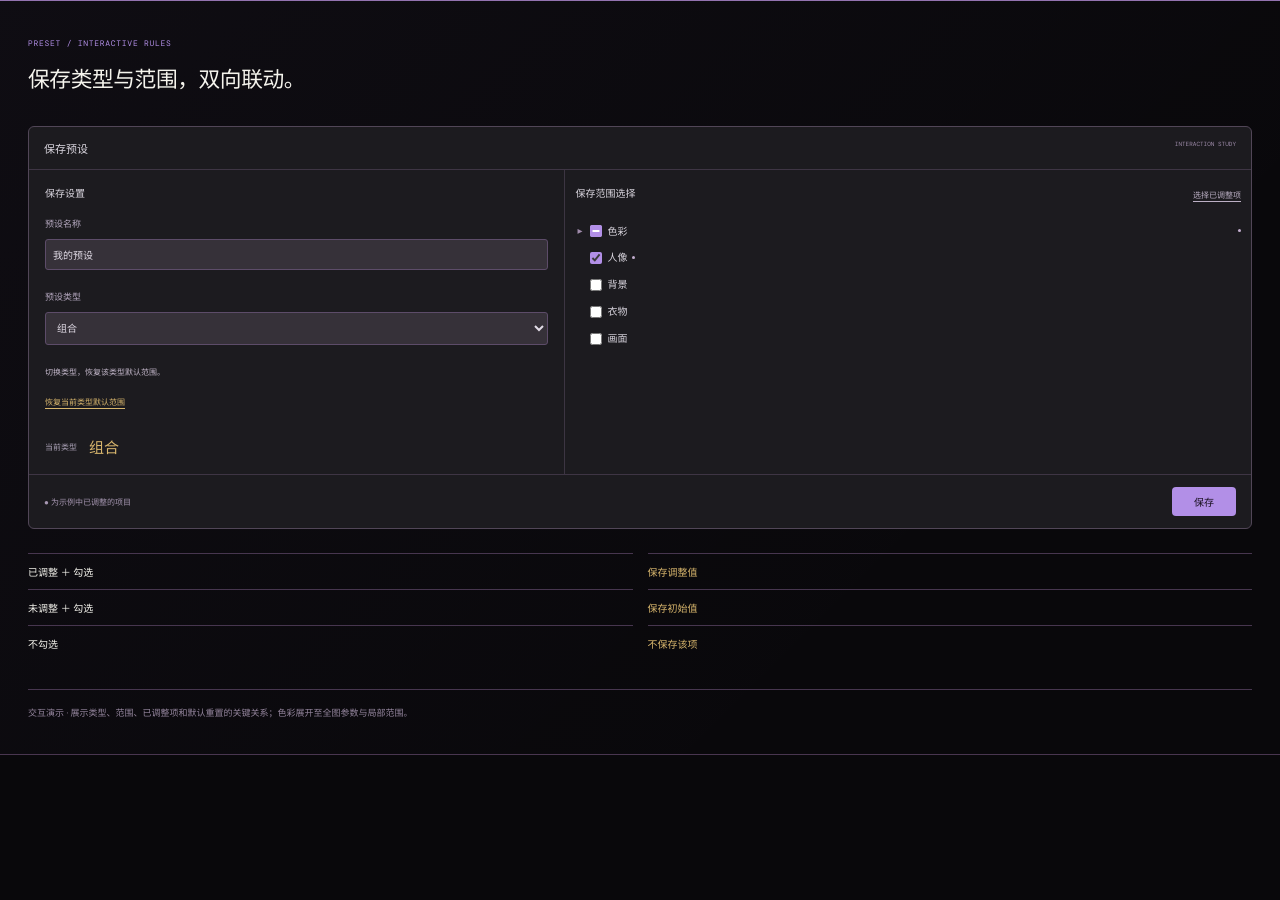
it: preset scope rules from the PRD › restores defaults after adjusted items, and disables saving an empty selection
The image size is (1280, 900).
Earlier steps of the test are not shown.
Step 1. Click the button "恢复当前类型默认范围" → (85, 401), box [45,388,125,414]
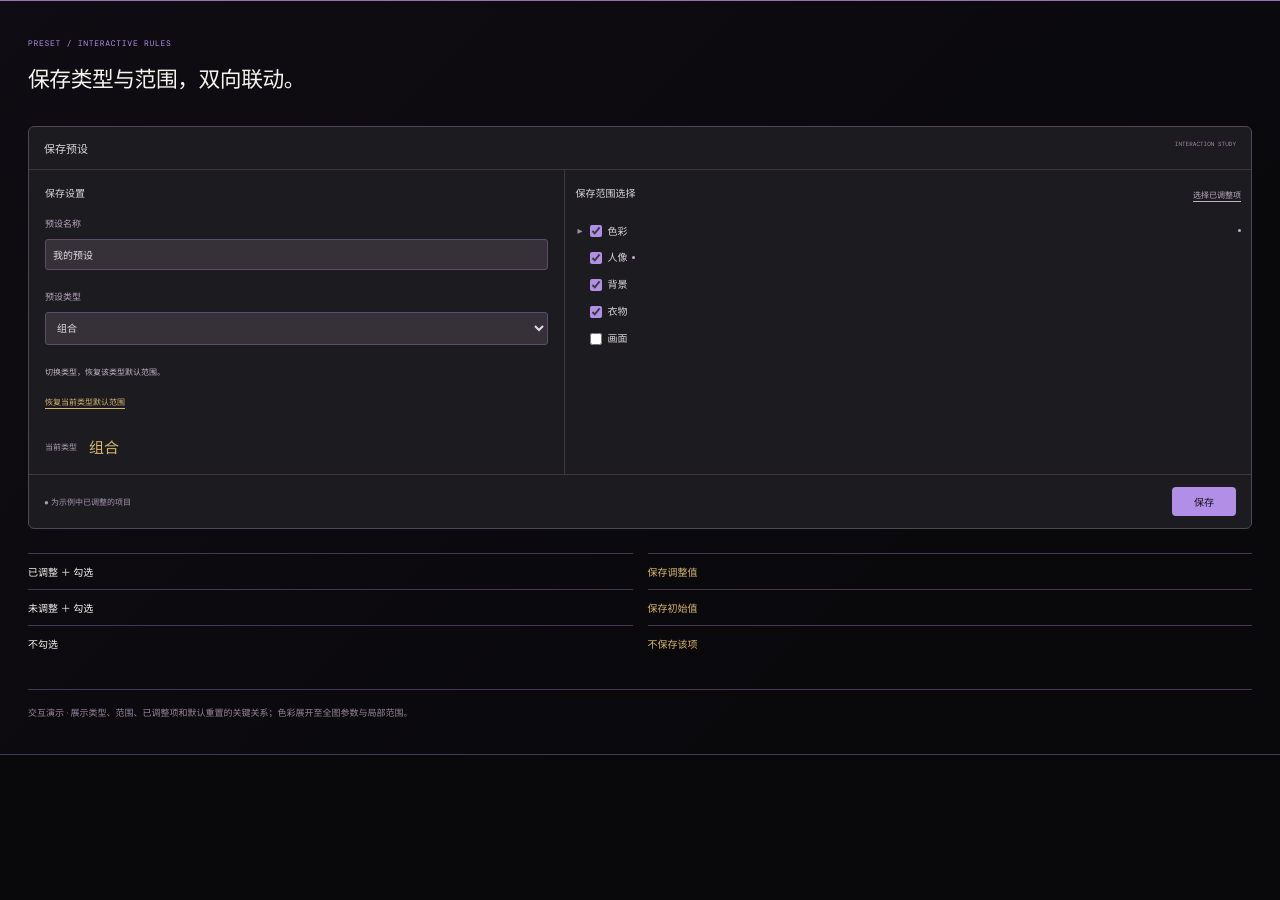
Now the checkbox named "保存色彩范围" is checked
Now the checkbox named "保存背景范围" is checked, box [590,279,602,291]
Step 2. Click the checkbox named "保存色彩范围" → (596, 231), box [590,225,602,237]
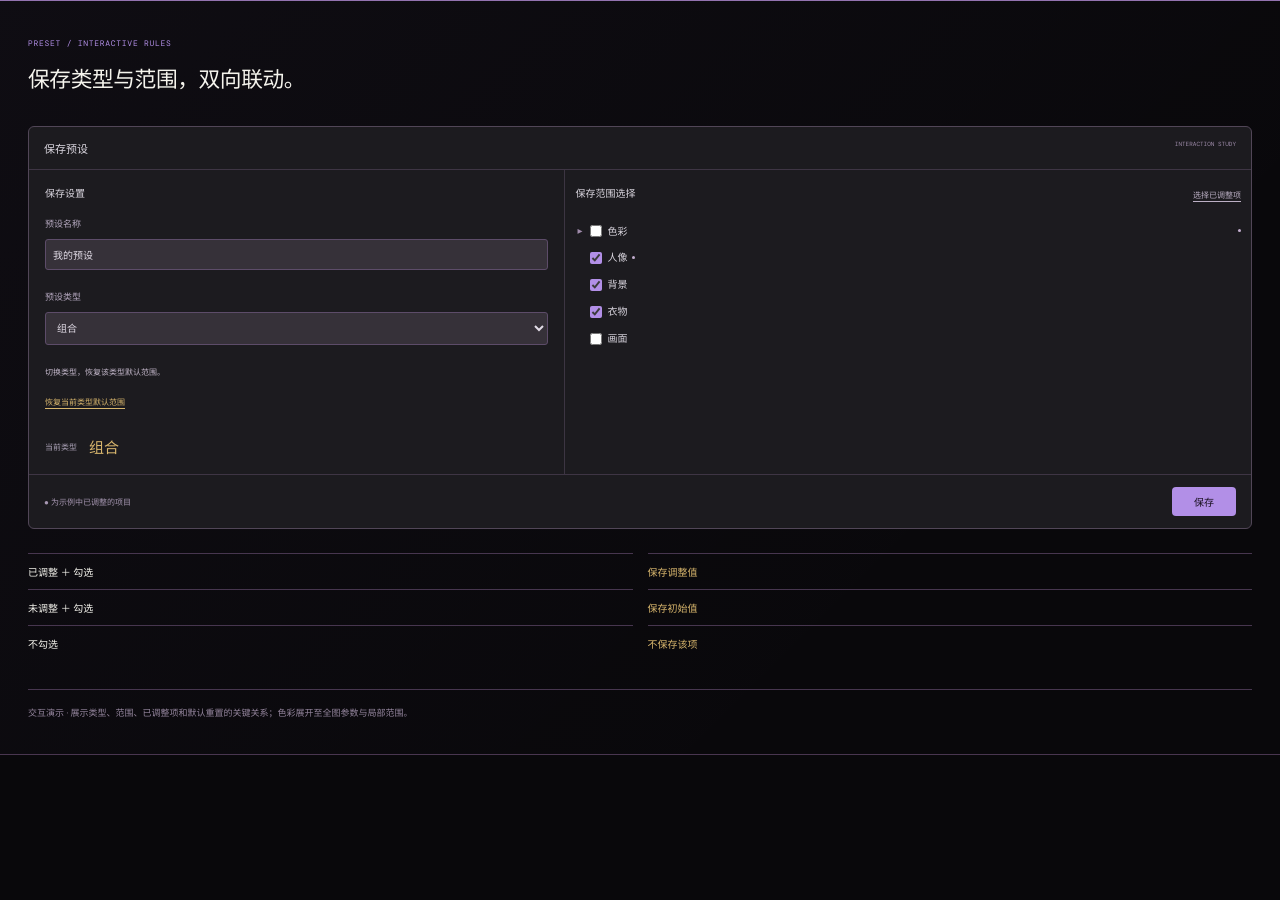
Step 3. Click the checkbox named "保存人像范围" → (596, 258), box [590,252,602,264]
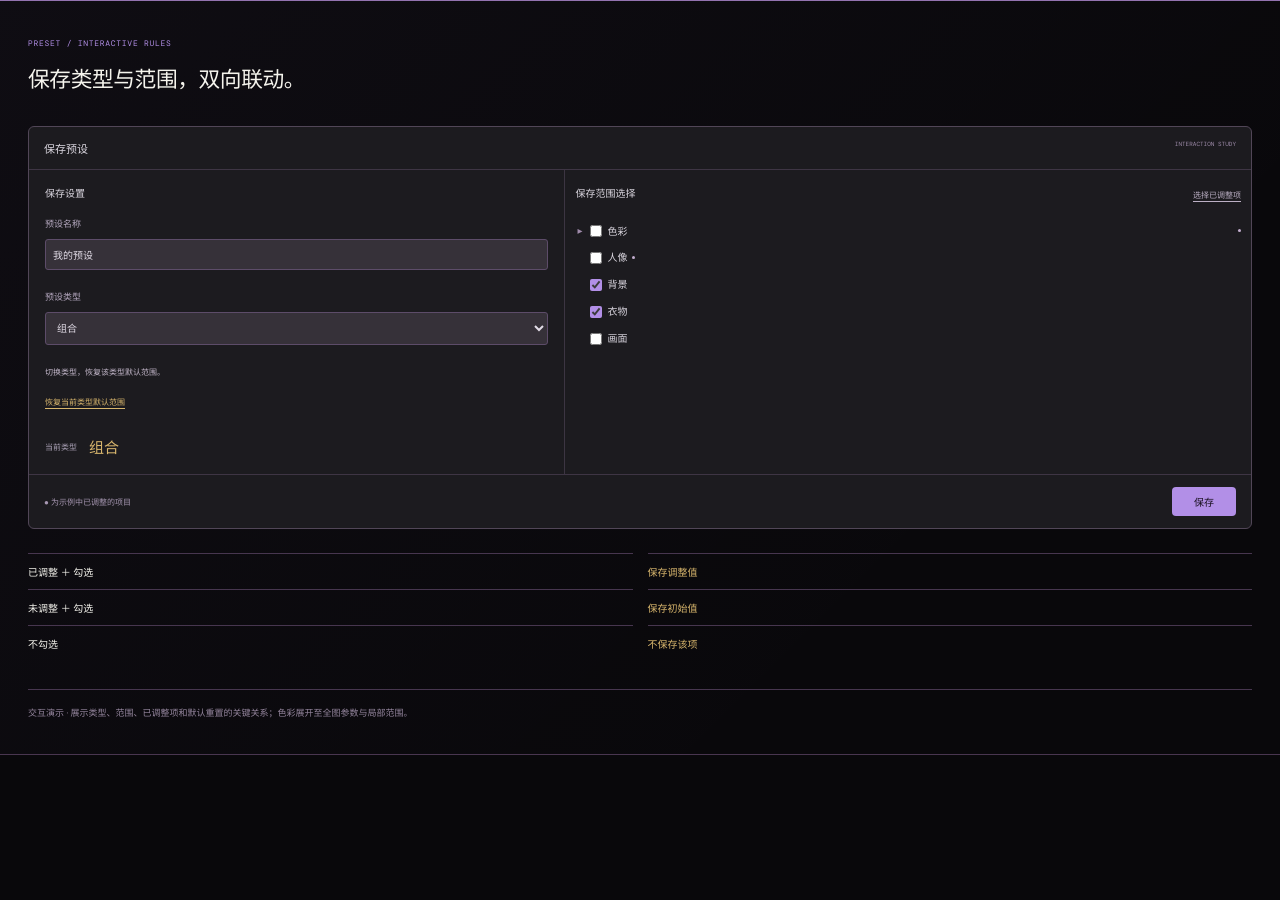
Step 4. Click the checkbox named "保存背景范围" → (596, 285), box [590,279,602,291]
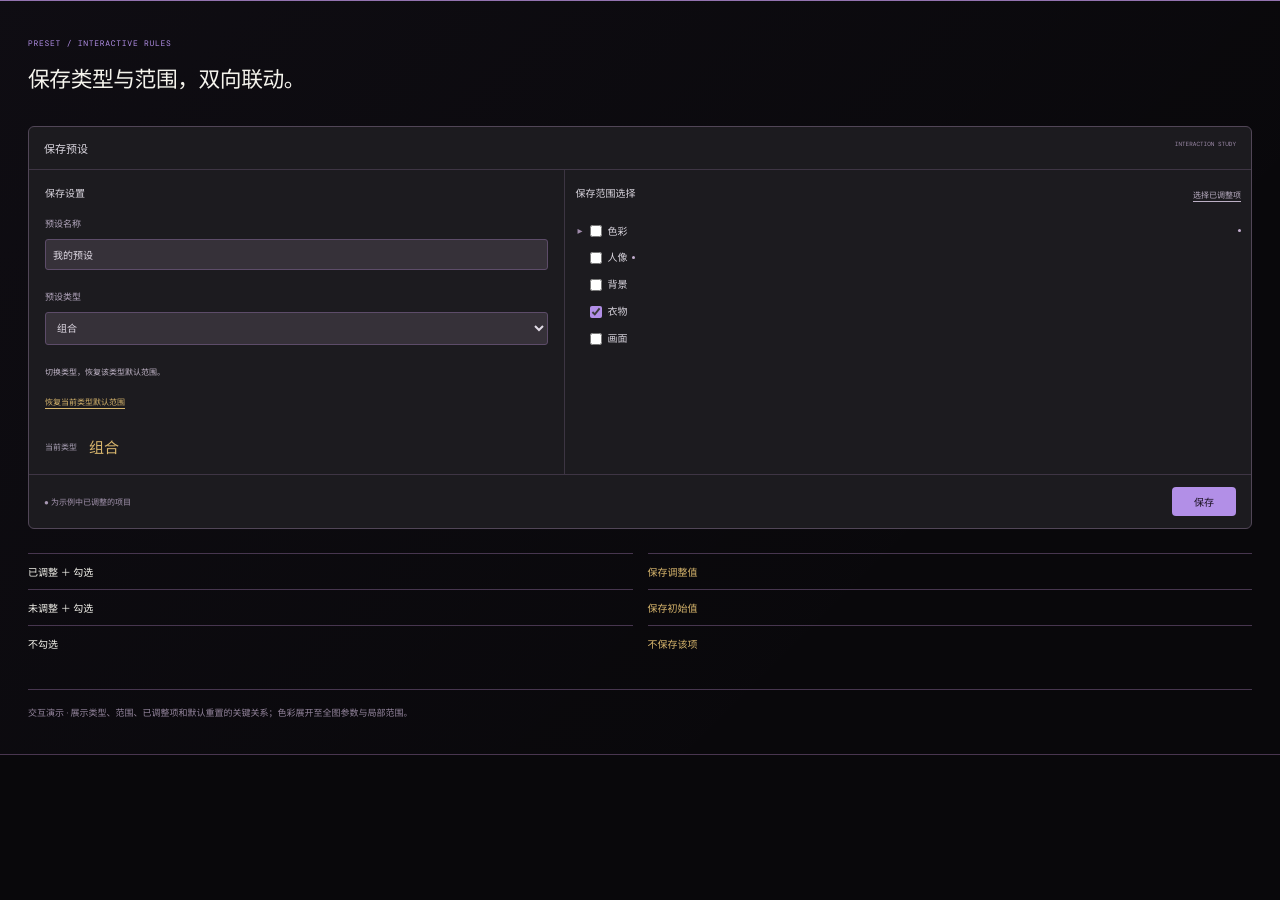
Step 5. Click the 4th checkbox → (596, 312), box [590,306,602,318]
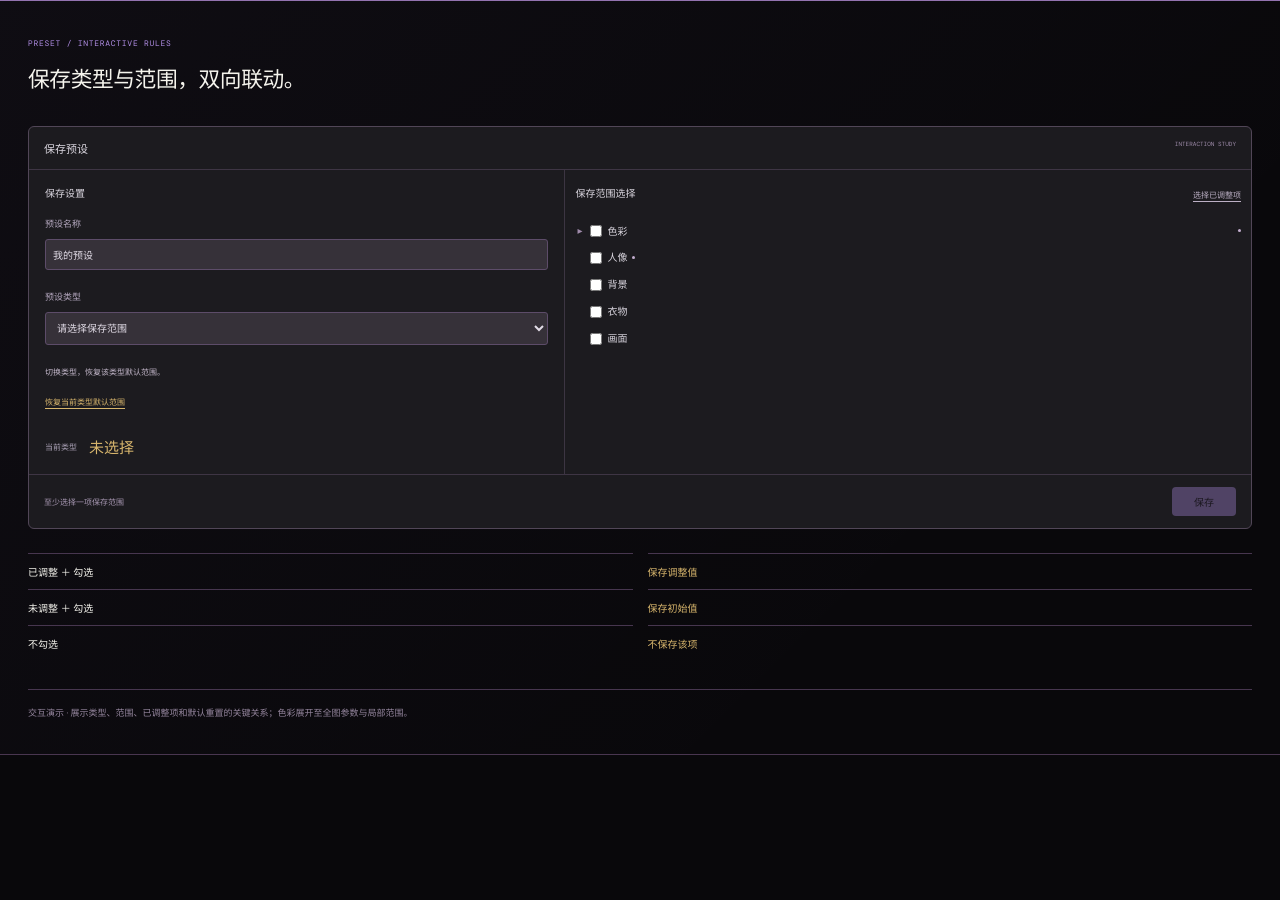
Now the button "保存" is disabled, box [1172,486,1236,516]
Now the dropdown labelled "预设类型" shows "请选择保存范围"
Step 6. Select "人像" in the dropdown labelled "预设类型" → (297, 329), box [45,312,548,345]
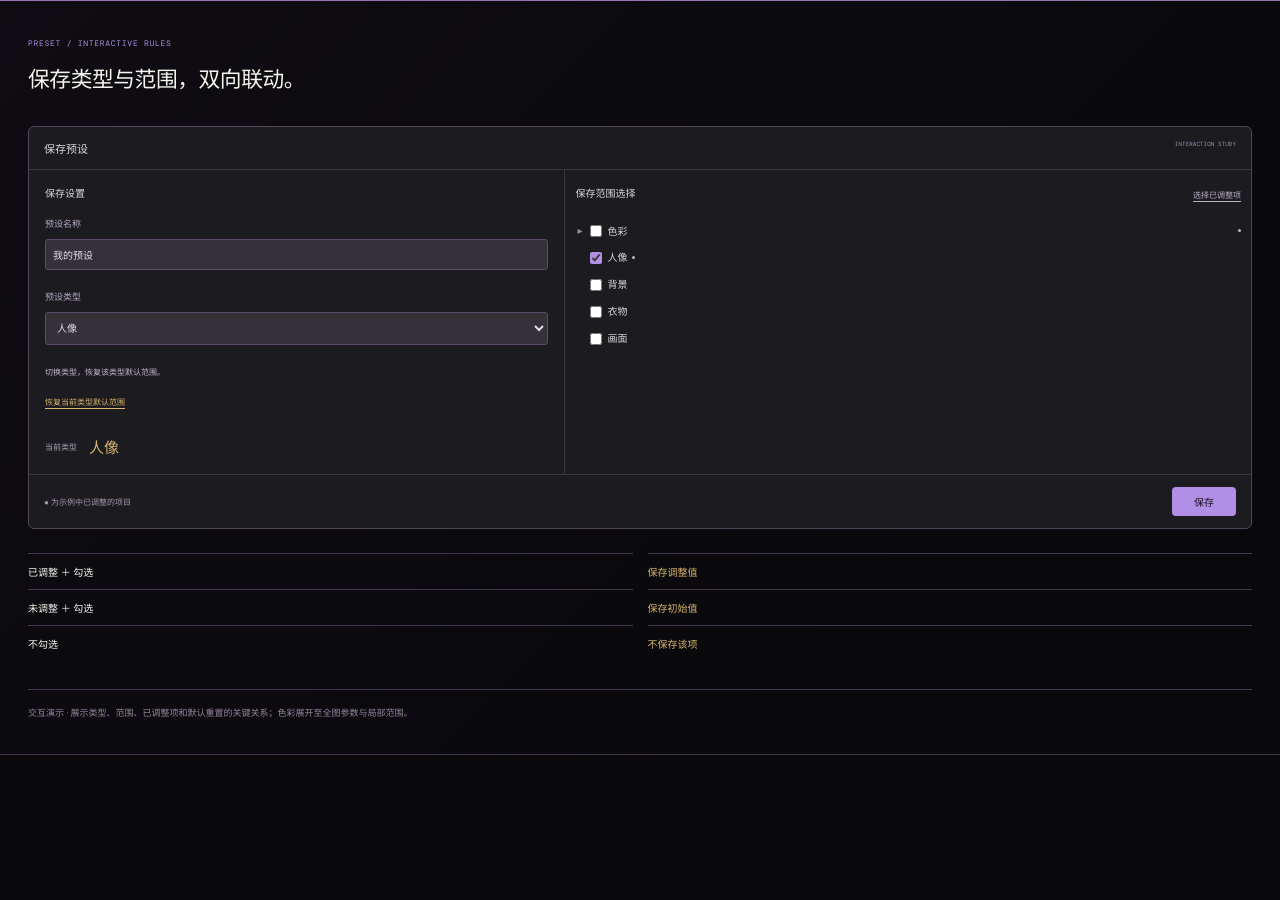
Now the checkbox named "保存人像范围" is checked, box [590,252,602,264]
Now the checkbox named "保存色彩范围" is not checked, box [590,225,602,237]
Now the button "保存" is enabled, box [1172,486,1236,516]
